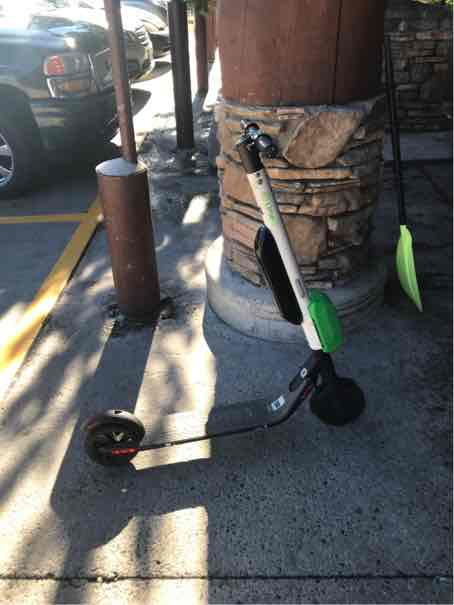scooter: (80, 114, 379, 475)
